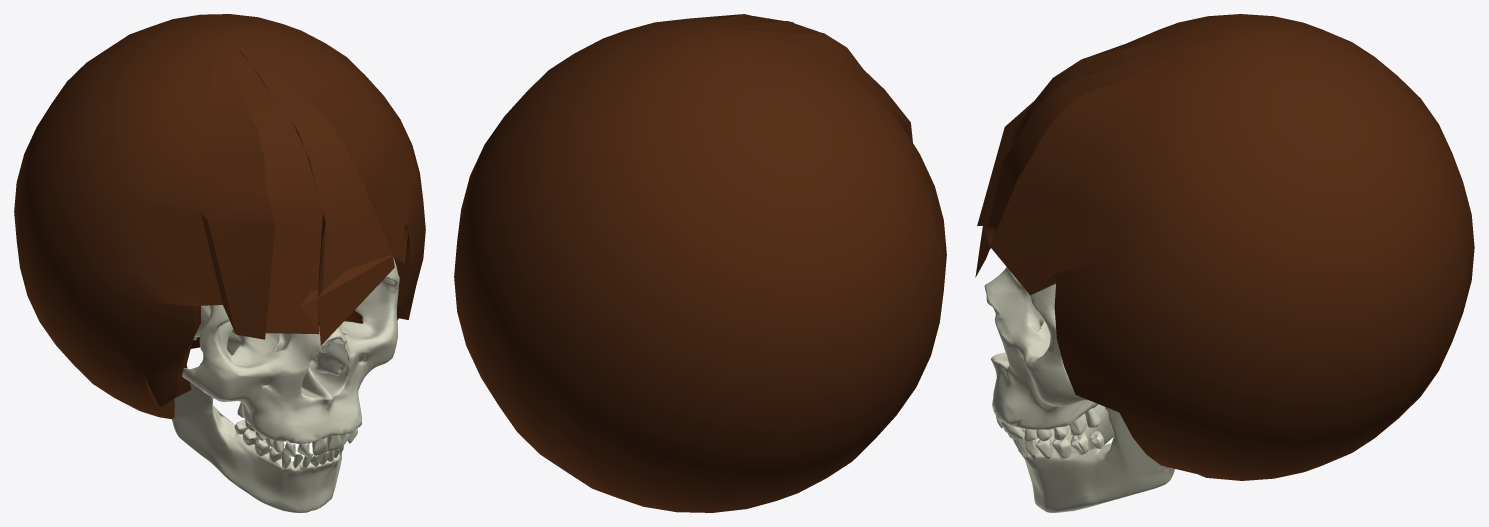
Rendered from Velma.fbx.
3 views of the same model, side by side, from view 1: azimuth 30°, elevation 25°; view 2: azimuth 150°, elevation 25°; view 3: azimuth 270°, elevation 25° (orthographic). The views are drawn at different scales.
Parts seen in each view (by area): view 1: hair, skull; view 2: hair; view 3: hair, skull.
Boxes of the visible parts, x1,y1,x2,y2 form: hair: (14,14,425,419); skull: (172,257,399,512); hair: (454,14,946,512); hair: (975,14,1474,480); skull: (984,267,1174,512).
Size of the model in its own units: 1.92 by 2.11 by 2.05.
